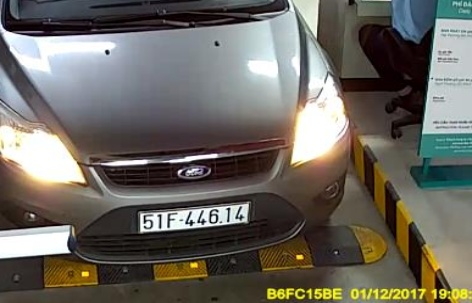plate: (135, 201, 255, 233)
